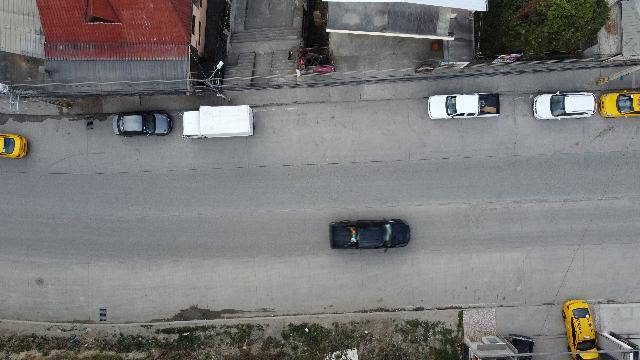Vehiculo: (330, 219, 411, 249), (562, 299, 598, 359), (428, 93, 500, 119), (532, 92, 596, 120), (112, 112, 172, 136), (598, 88, 640, 118), (0, 134, 28, 158)
